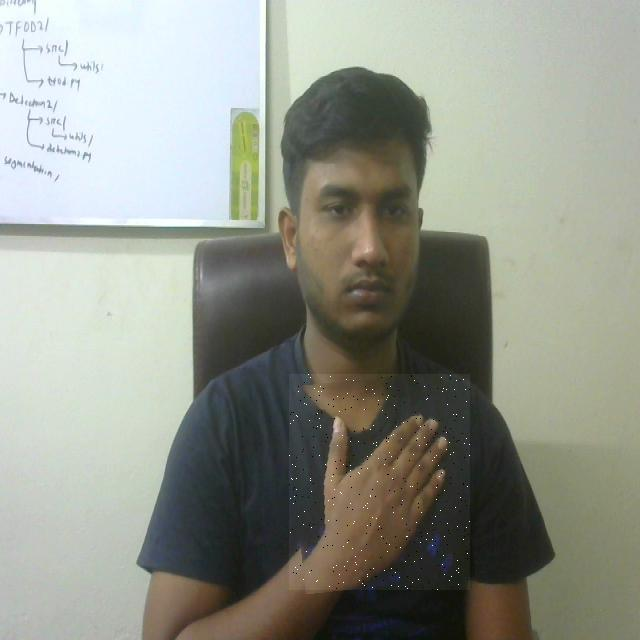Please: (289, 374, 470, 590)
